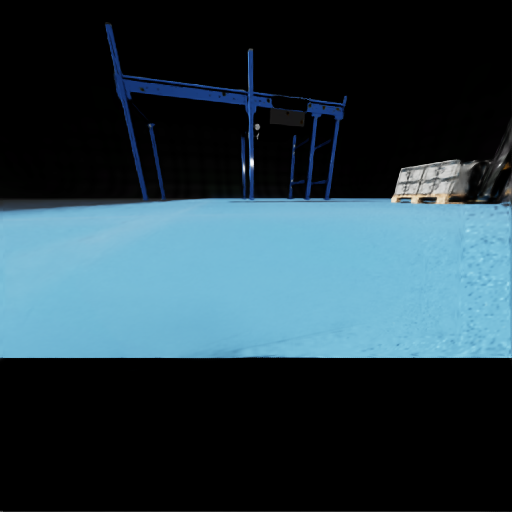transportation_area: (418, 178, 481, 194), (423, 162, 441, 197)
